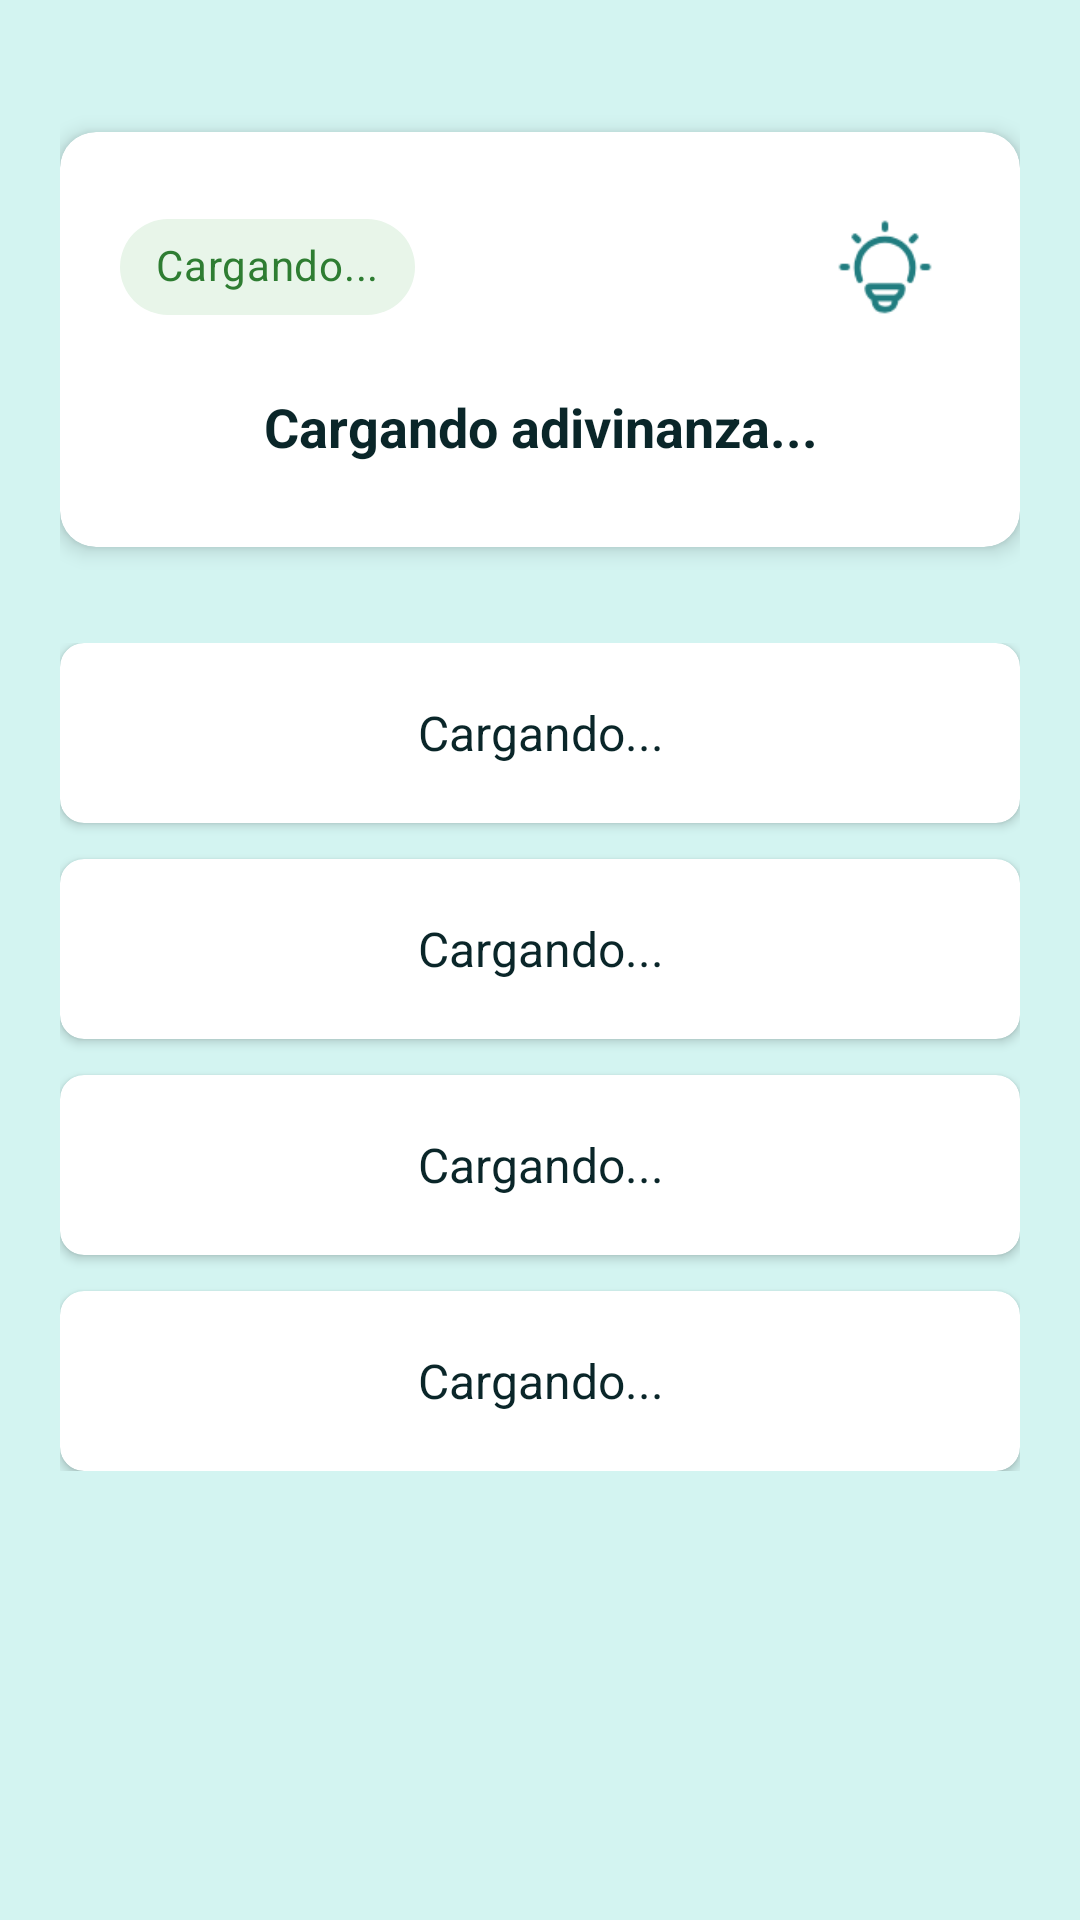

Icon bounding boxes for this 1080 x 1920 phone screenshot, format (x1, y1, x2, y2):
Mostrar pista: (838, 220, 932, 314)
